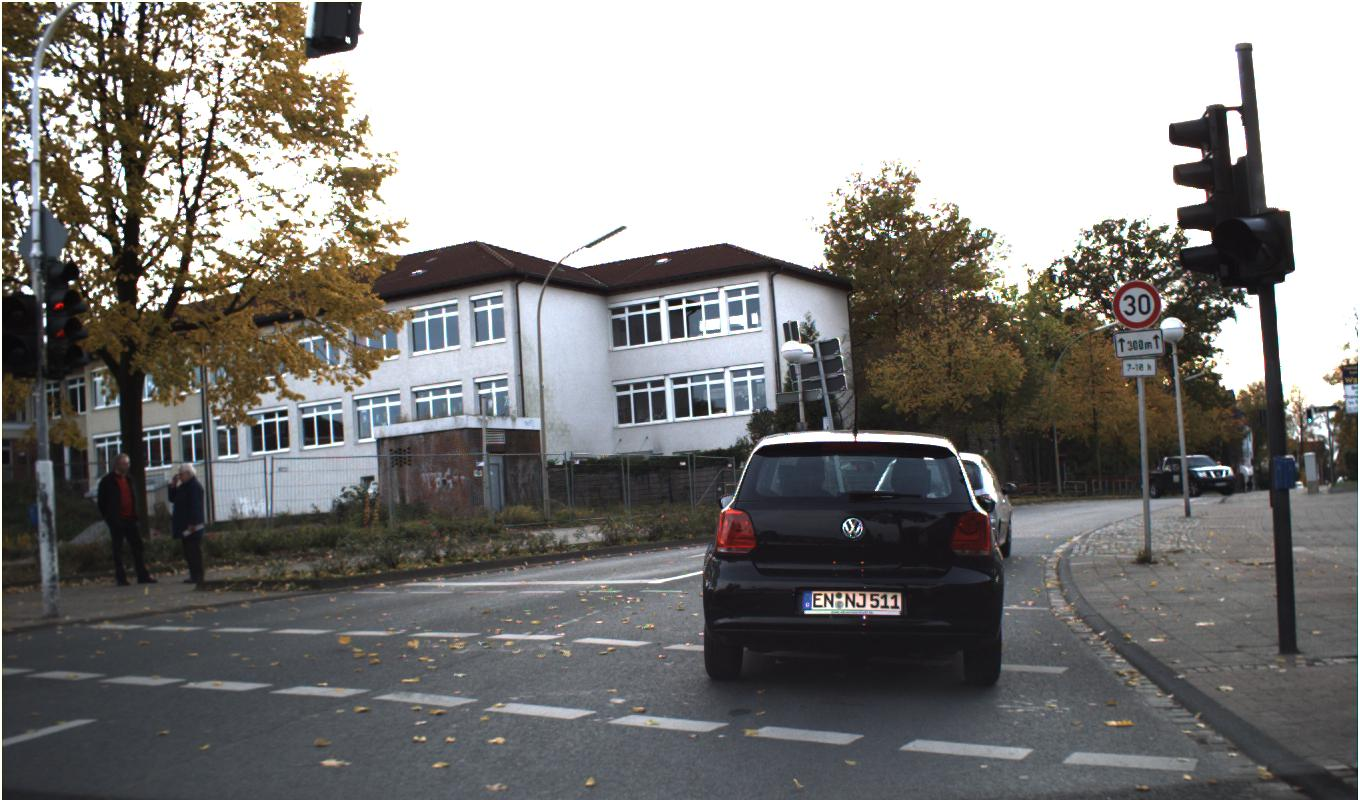prohibitory: (1111, 279, 1161, 329)
